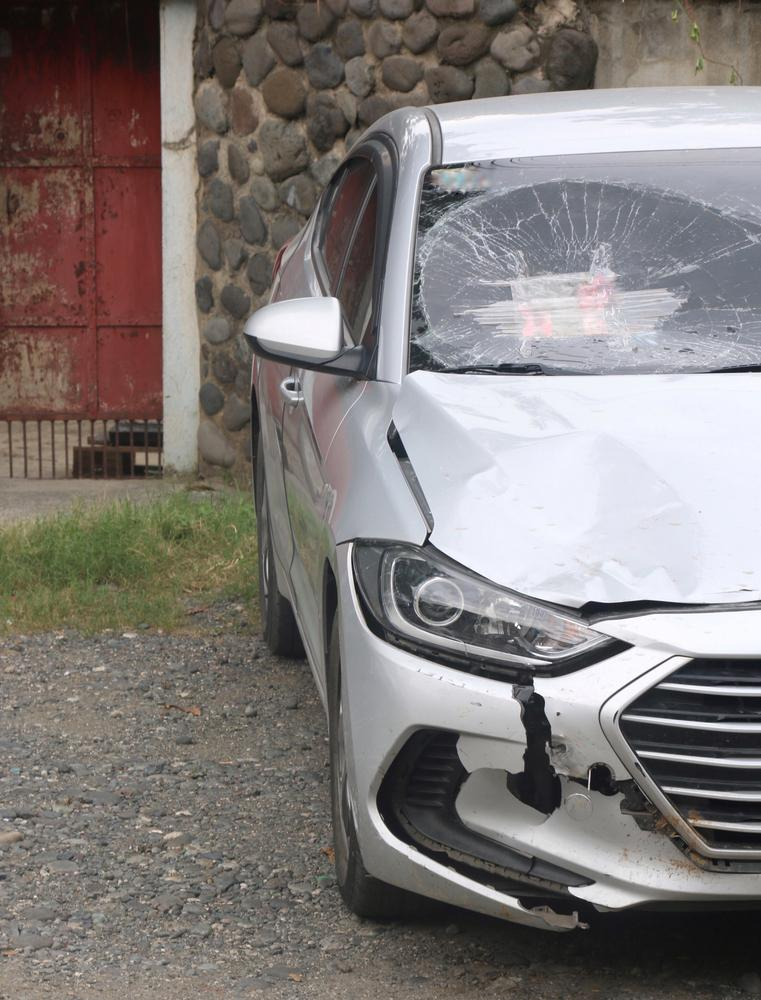crack: (465, 678, 630, 827), (518, 889, 597, 924)
dent: (426, 424, 709, 607)
glass shatter: (406, 148, 761, 375)
